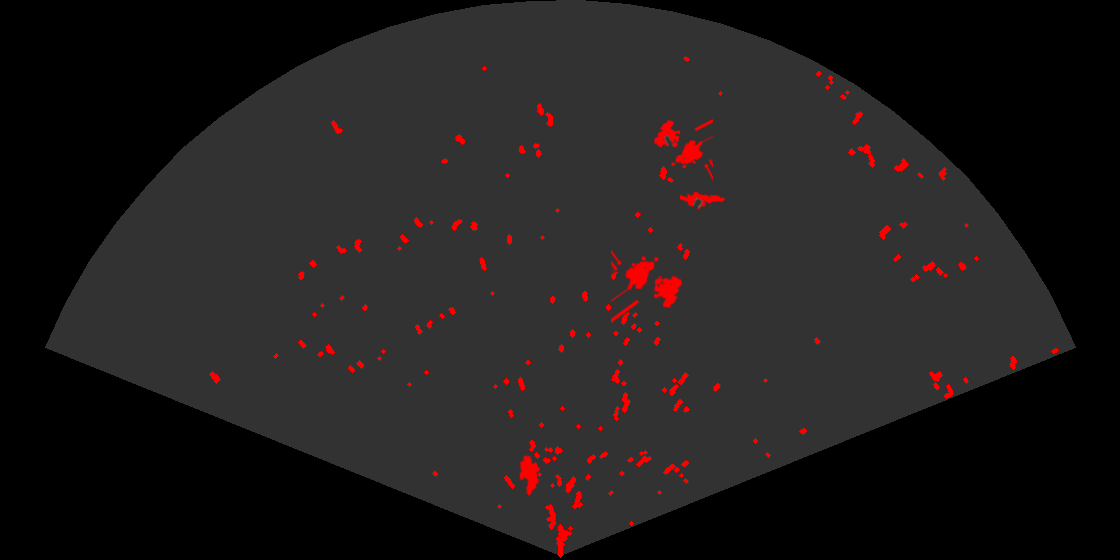AUV: (517, 453, 542, 498)
cage: (611, 248, 684, 325), (652, 117, 713, 182)
frogman: (680, 190, 726, 212)
